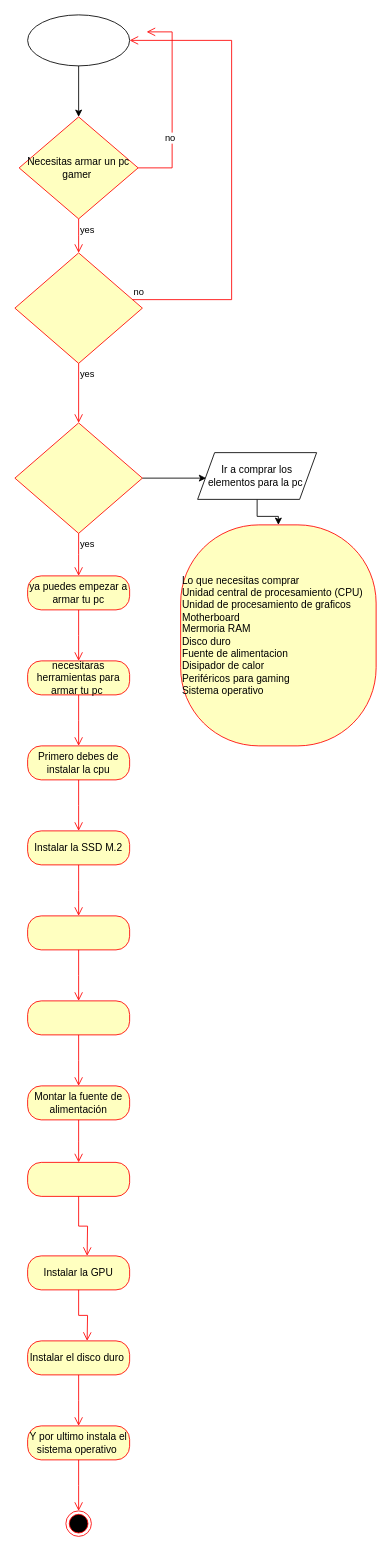
The diagram is 391 pixels wide and 1551 high, and some of its shapes have lost their labels. The centre of each missing label's shape, as x and y in pixels:
Inicio: point (78, 40)
Instalar la refrigeracion de la CPU: point (78, 932)
Instalar memoria RAM: point (78, 1017)
Instalar placa base: point (78, 1179)
Tienes el presupuesto suficiente para comprar los elementos: point (78, 307)
Ya tienes los elementos para aramar la pc: point (78, 477)
